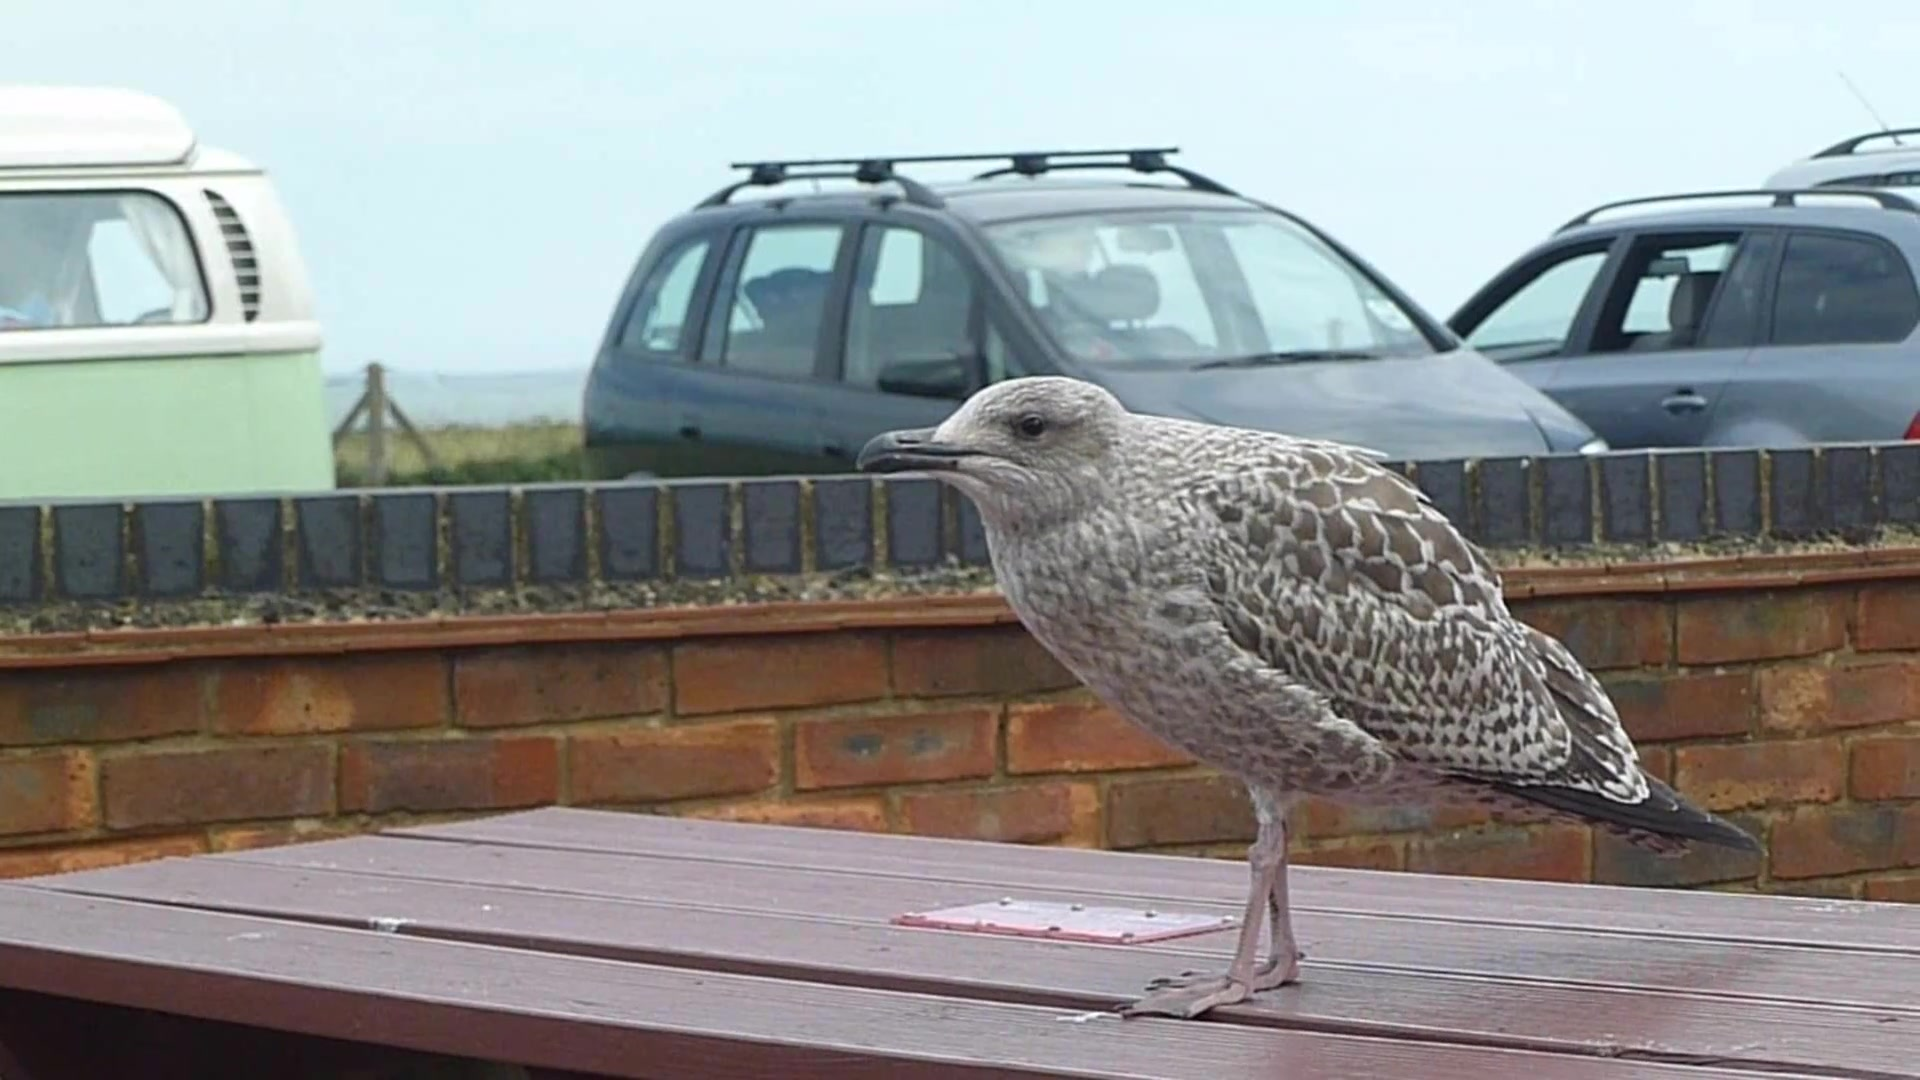bird: (853, 377, 1766, 1022)
